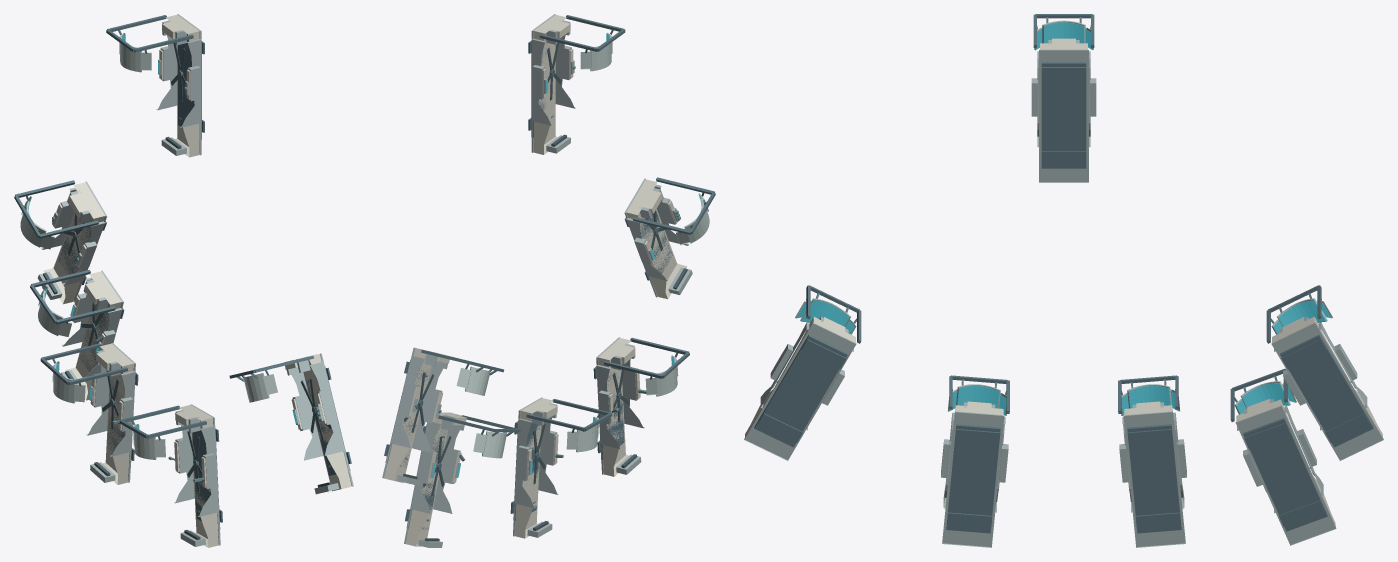
File: proposal_L1_stations_B3.glb
3 renders of one model, left to right at view 1: azimuth 30°, elevation 25°; view 2: azimuth 150°, elevation 25°; view 3: azimuth 270°, elevation 25°, orthographic. The views are drawn at different scales.
Visible parts, largest first — view 1: proposal:station_PILOT, proposal:station_NAV, proposal:station_S1, proposal:station_S2, proposal:station_S3, proposal:station_S4; view 2: proposal:station_S1, proposal:station_NAV, proposal:station_PILOT, proposal:station_S3, proposal:station_S2, proposal:station_S4; view 3: proposal:station_S2, proposal:station_S3, proposal:station_S4, proposal:station_PILOT, proposal:station_S1, proposal:station_NAV.
Boxes of the visible parts, box(x1,y1,x2,y2) form: proposal:station_PILOT: box(119, 404, 222, 547); proposal:station_NAV: box(106, 14, 204, 157); proposal:station_S1: box(40, 343, 138, 484); proposal:station_S2: box(229, 353, 353, 494); proposal:station_S3: box(14, 180, 107, 304); proposal:station_S4: box(30, 270, 124, 400); proposal:station_S1: box(510, 397, 612, 538); proposal:station_NAV: box(528, 14, 625, 154); proposal:station_PILOT: box(593, 337, 689, 476); proposal:station_S3: box(382, 347, 503, 485); proposal:station_S2: box(624, 177, 715, 299); proposal:station_S4: box(404, 412, 520, 547); proposal:station_S2: box(744, 285, 861, 460); proposal:station_S3: box(1266, 285, 1383, 460); proposal:station_S4: box(1230, 368, 1336, 545); proposal:station_PILOT: box(941, 375, 1009, 547); proposal:station_S1: box(1118, 375, 1186, 547); proposal:station_NAV: box(1031, 14, 1096, 182).
Size of the model in its own units: 1.54 by 6.1 by 6.92.
